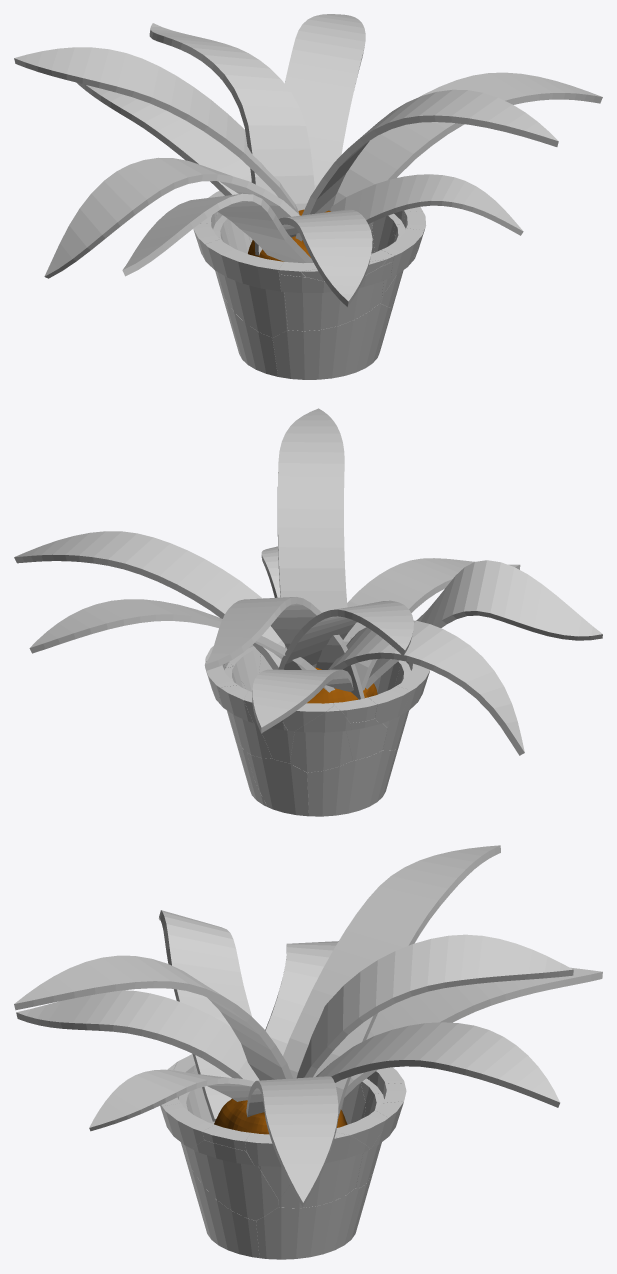
Rendered from BrokenPottedPlantFern.fbx.
3 renders of one model, top to bottom at view 1: azimuth 30°, elevation 25°; view 2: azimuth 150°, elevation 25°; view 3: azimuth 270°, elevation 25°, orthographic. The views are drawn at different scales.
Parts seen in each view (by area): view 1: Leaf.008, Leaf.006, Leaf.004, Leaf.005, Leaf, Leaf.003, Leaf.007, Plant Pot_cell.003, Leaf.002, Leaf.009, Plant Pot_cell.021, Leaf.001 (+8 smaller); view 2: Leaf.003, Leaf, Leaf.007, Leaf.005, Leaf.008, Leaf.004, Leaf.006, Leaf.002, Plant Pot_cell.022, Leaf.001, Plant Pot_cell.014, Plant Pot_cell.005 (+10 smaller); view 3: Leaf.006, Leaf.008, Leaf.004, Leaf.002, Leaf.003, Leaf, Leaf.007, Leaf.001, Plant Pot_cell.009, Plant Pot_cell.001, Leaf.009, Leaf.005 (+13 smaller).
Boxes of the visible parts, x1,y1,x2,y2 form: Leaf.008: (149, 23, 314, 255); Leaf.006: (14, 47, 299, 214); Leaf.004: (284, 14, 365, 189); Leaf.005: (44, 157, 299, 278); Leaf: (333, 72, 602, 205); Leaf.003: (295, 89, 558, 241); Leaf.007: (122, 193, 313, 276); Plant Pot_cell.003: (272, 303, 392, 379); Leaf.002: (279, 209, 372, 306); Leaf.009: (330, 174, 523, 235); Plant Pot_cell.021: (205, 239, 287, 337); Leaf.001: (76, 82, 251, 195); Leaf.003: (277, 408, 350, 648); Leaf: (14, 531, 284, 669); Leaf.007: (365, 560, 602, 689); Leaf.005: (321, 620, 524, 755); Leaf.008: (204, 597, 364, 699); Leaf.004: (29, 599, 334, 692); Leaf.006: (278, 600, 413, 669); Leaf.002: (347, 558, 520, 690); Plant Pot_cell.022: (307, 747, 398, 816); Leaf.001: (252, 669, 353, 733); Plant Pot_cell.014: (290, 705, 352, 772); Plant Pot_cell.005: (247, 752, 308, 816); Leaf.006: (283, 845, 500, 1118); Leaf.008: (296, 934, 573, 1078); Leaf.004: (316, 1022, 560, 1107); Leaf.002: (16, 990, 259, 1081); Leaf.003: (14, 955, 292, 1080); Leaf: (246, 1076, 338, 1207); Leaf.007: (158, 910, 251, 1121); Leaf.001: (344, 967, 602, 1097); Plant Pot_cell.009: (256, 1187, 362, 1259); Plant Pot_cell.001: (189, 1140, 278, 1220); Leaf.009: (89, 1069, 254, 1131); Leaf.005: (265, 941, 338, 1055).
Size of the model in its own units: 888 by 440 by 779.
